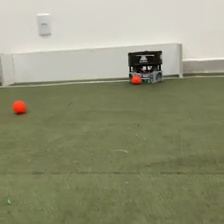ball: (11, 98, 27, 114), (130, 73, 141, 84)
goal: (1, 38, 184, 88)
robot: (128, 48, 163, 85)
